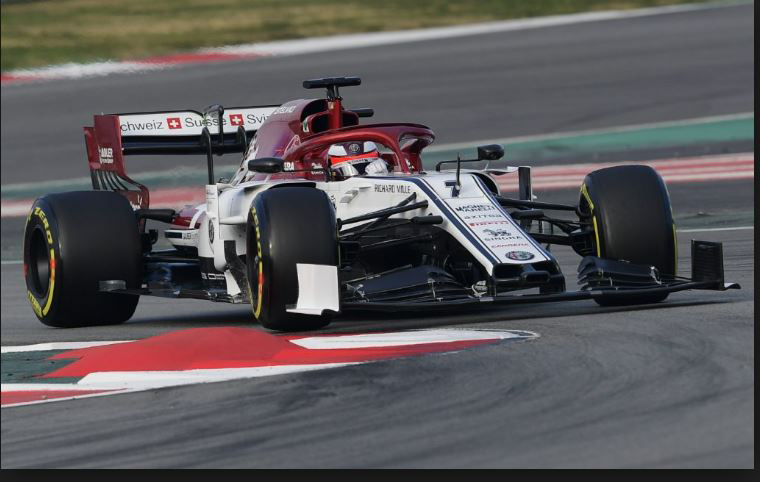F1 Car: (19, 73, 747, 334)
